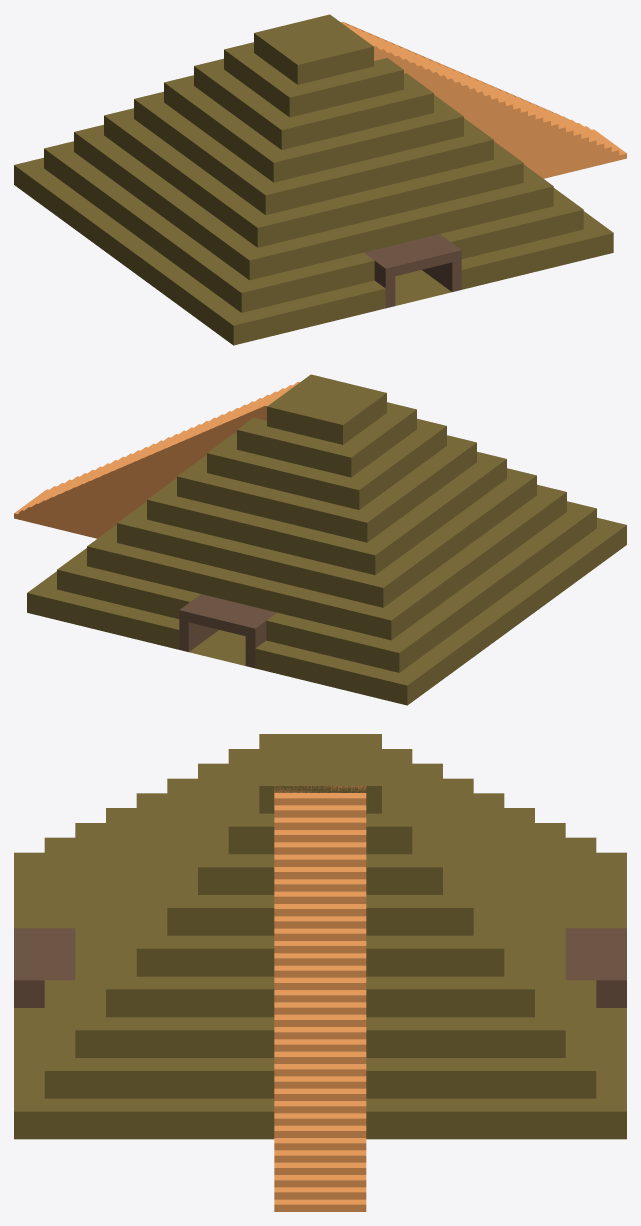
Rendered from piramide 2.fbx.
3 renders of one model, top to bottom at view 1: azimuth 30°, elevation 25°; view 2: azimuth 150°, elevation 25°; view 3: azimuth 270°, elevation 25°, orthographic. The views are drawn at different scales.
Parts seen in each view (by area): view 1: piramide, piramide escada, piramide entrada; view 2: piramide, piramide escada, piramide entrada; view 3: piramide, piramide escada, piramide entrada.
Part boxes in pixels (x1,y1,x2,y2): piramide: [14, 14, 613, 345]; piramide escada: [341, 22, 626, 178]; piramide entrada: [364, 234, 461, 308]; piramide: [27, 374, 626, 705]; piramide escada: [14, 381, 299, 538]; piramide entrada: [179, 594, 276, 668]; piramide: [14, 734, 626, 1139]; piramide escada: [274, 786, 366, 1211]; piramide entrada: [14, 928, 626, 1007].
Size of the model in its own units: 2560 by 900 by 2000.
